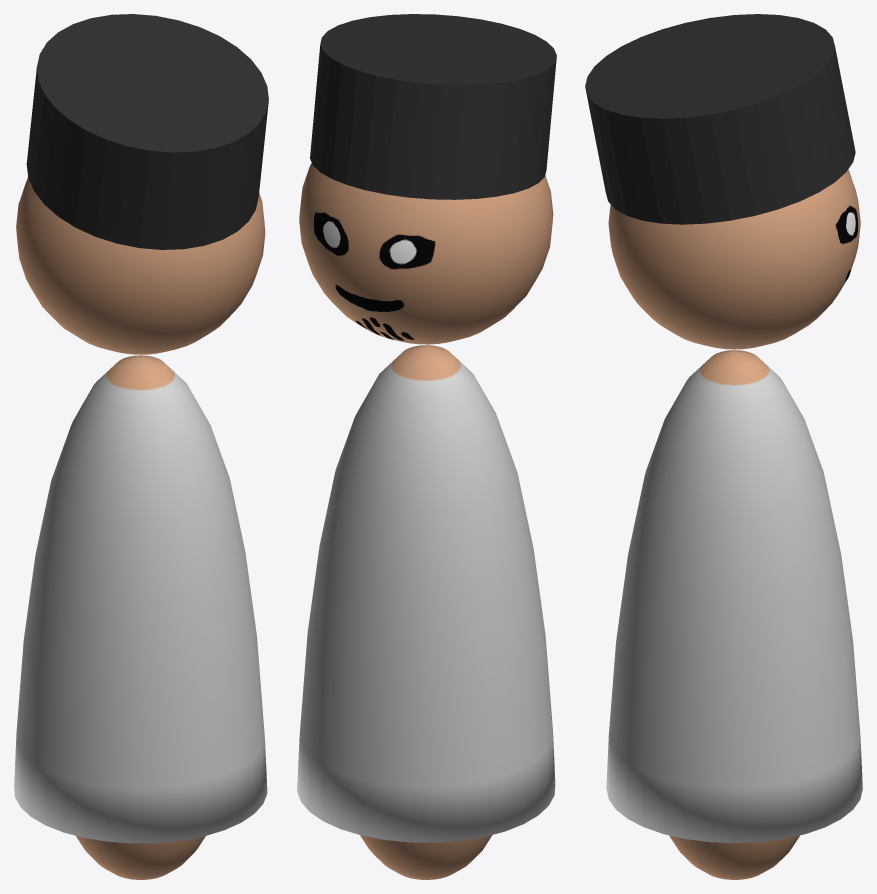
Rendered from Chara8.fbx.
3 views of the same model, side by side, from view 1: azimuth 30°, elevation 25°; view 2: azimuth 150°, elevation 25°; view 3: azimuth 270°, elevation 25° (orthographic).
Visible parts, largest first — view 1: Sphere.002, Cylinder, Sphere.001; view 2: Sphere.002, Cylinder, Sphere.001; view 3: Sphere.002, Cylinder, Sphere.001.
Part boxes in pixels (bbox=[...]): Sphere.002: bbox=[14, 355, 267, 879]; Cylinder: bbox=[26, 14, 268, 249]; Sphere.001: bbox=[16, 177, 265, 354]; Sphere.002: bbox=[297, 345, 555, 879]; Cylinder: bbox=[310, 14, 556, 199]; Sphere.001: bbox=[299, 163, 553, 344]; Sphere.002: bbox=[606, 350, 862, 879]; Cylinder: bbox=[585, 14, 855, 224]; Sphere.001: bbox=[608, 169, 860, 349].
Size of the model in its own units: 137 by 490 by 149.
